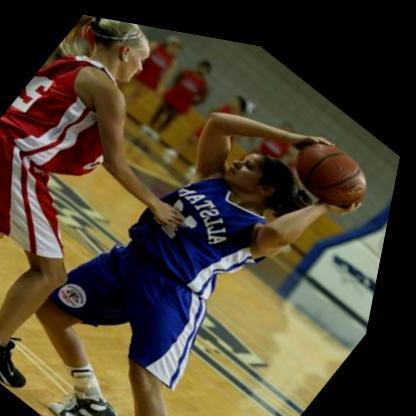basketball: (280, 111, 389, 210)
